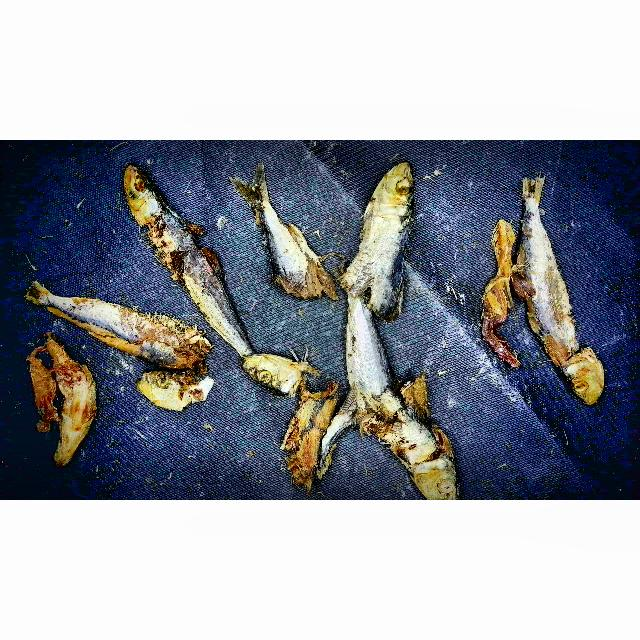Rejected_Body: (150, 229, 253, 342), (53, 296, 204, 370), (517, 215, 579, 359), (247, 211, 339, 303), (344, 303, 405, 422), (276, 383, 340, 484)
Rejected_Head: (352, 160, 417, 319), (24, 337, 101, 471), (118, 156, 177, 242), (395, 435, 470, 500), (239, 341, 323, 396), (134, 362, 212, 419), (560, 348, 609, 408)
Rejected_Tail: (224, 159, 279, 214), (336, 384, 370, 430), (518, 174, 548, 213)
